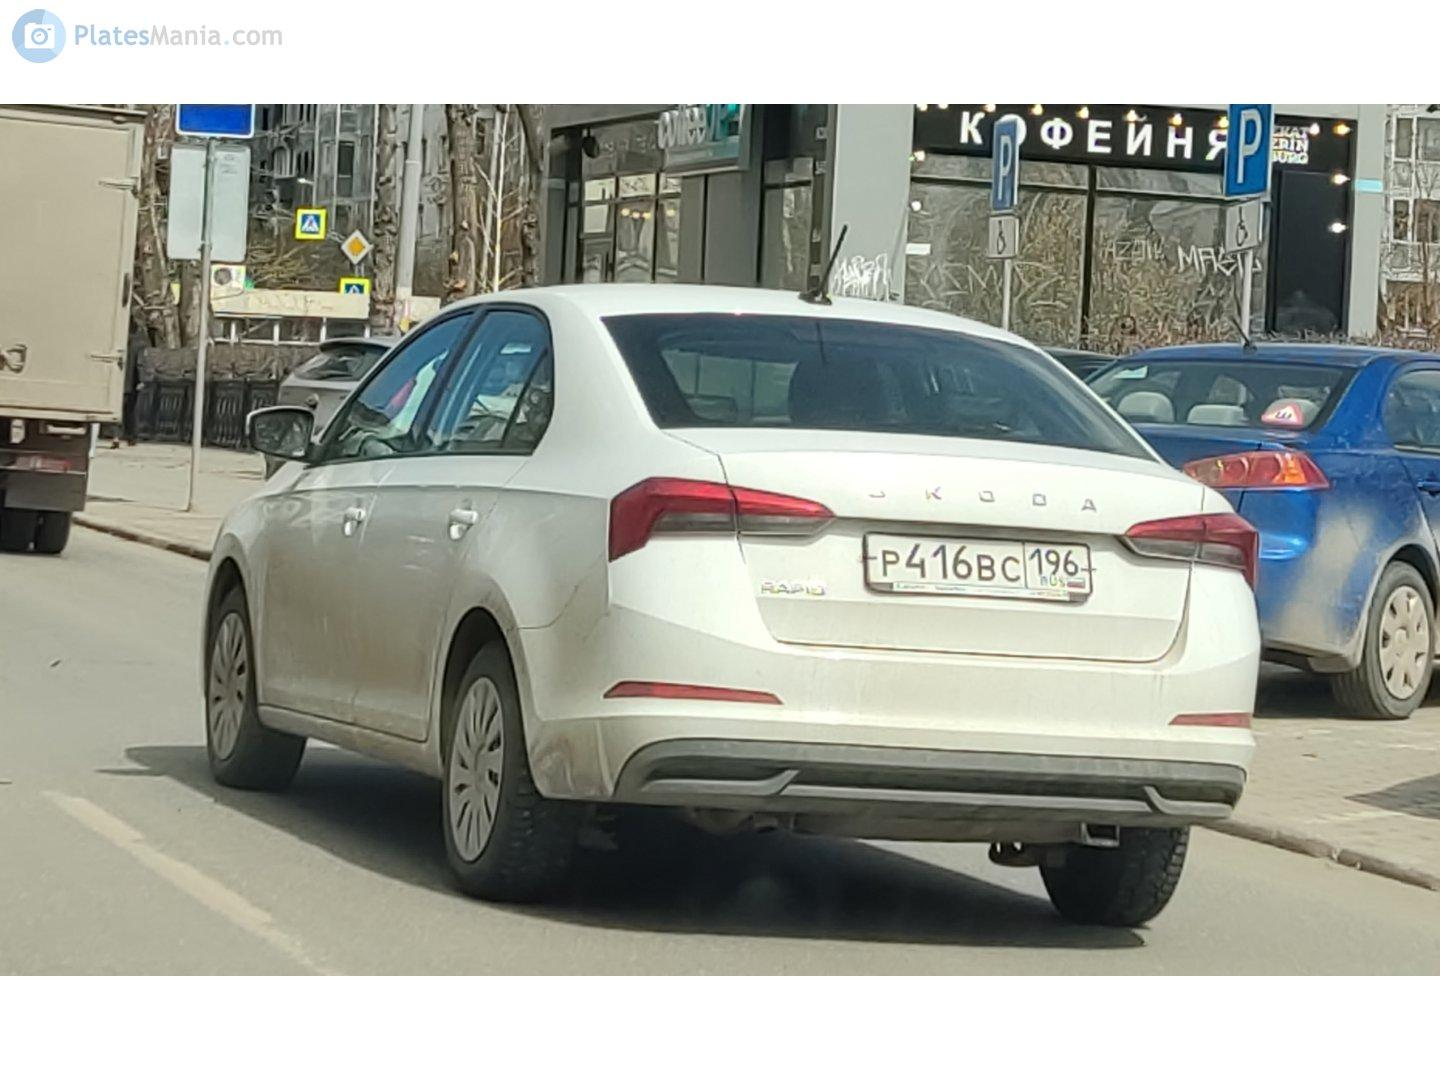license-plateSW: (866, 536, 1089, 590)
